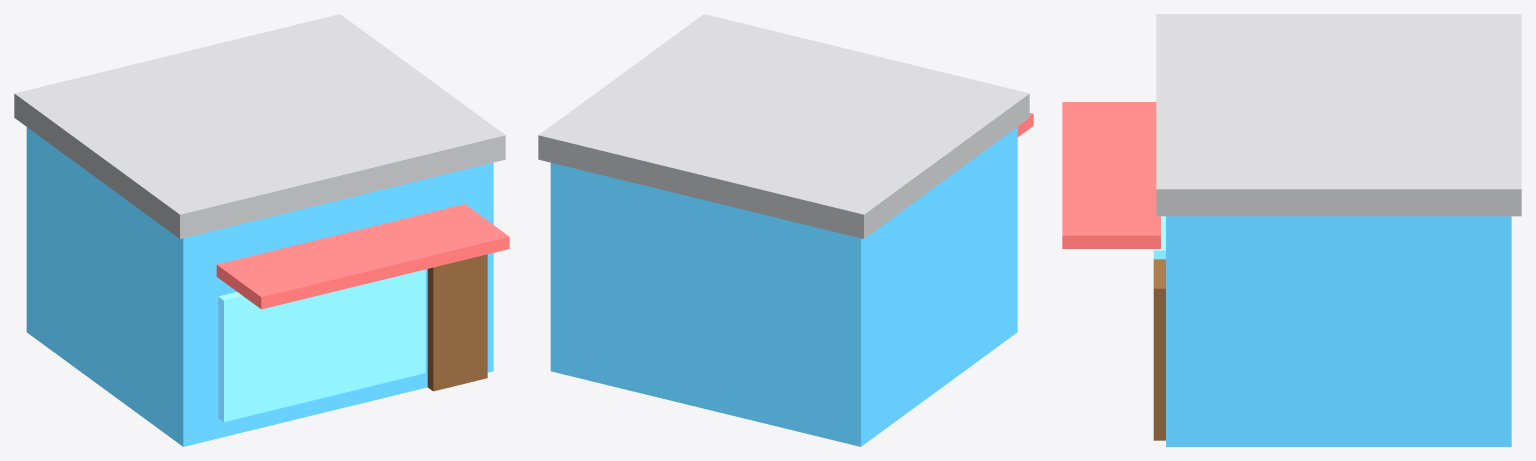
Rendered from commercial_1.glb.
3 views of the same model, side by side, from view 1: azimuth 30°, elevation 25°; view 2: azimuth 150°, elevation 25°; view 3: azimuth 270°, elevation 25° (orthographic). The views are drawn at different scales.
Parts seen in each view (by area): view 1: commercial_1; view 2: commercial_1; view 3: commercial_1.
Part boxes in pixels (x1=…): commercial_1: x1=14, y1=14, x2=509, y2=446; commercial_1: x1=538, y1=14, x2=1033, y2=446; commercial_1: x1=1062, y1=14, x2=1521, y2=446.
Size of the model in its own units: 0.84 by 0.585 by 0.93.
